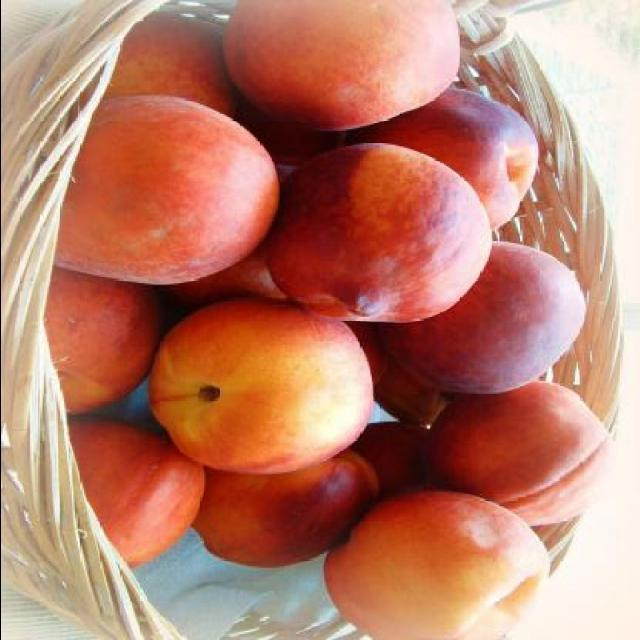Peach: (41, 0, 619, 640)
